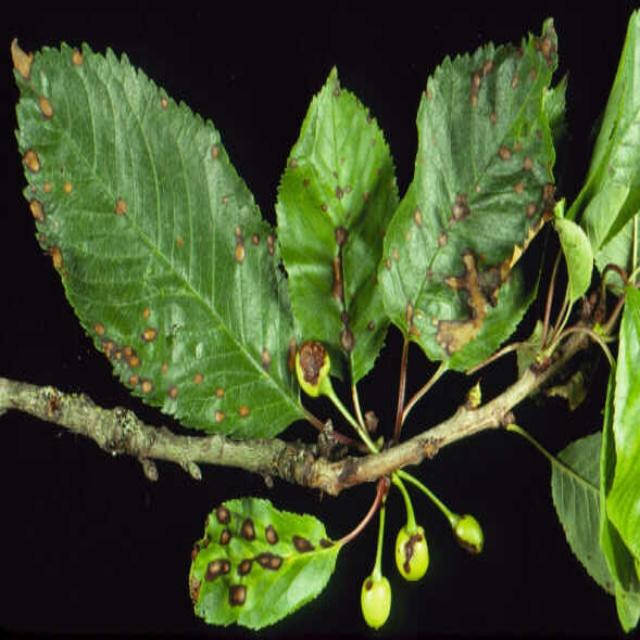shot_hole: (179, 490, 350, 640)
